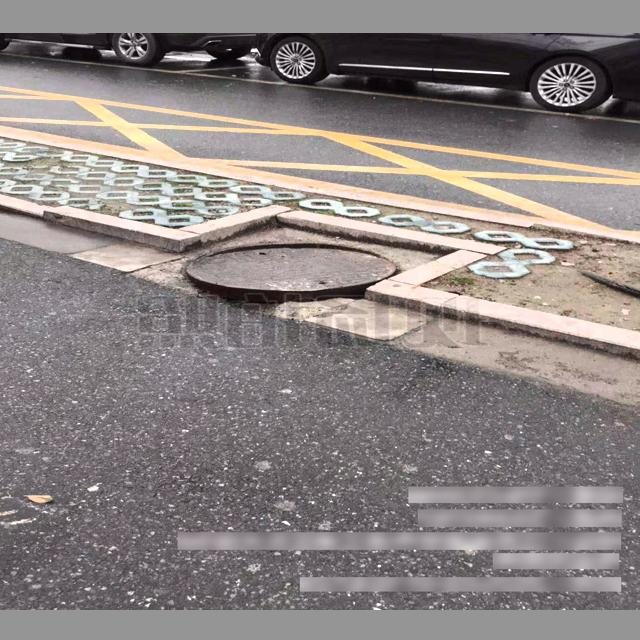uncovered: (184, 245, 400, 305)
